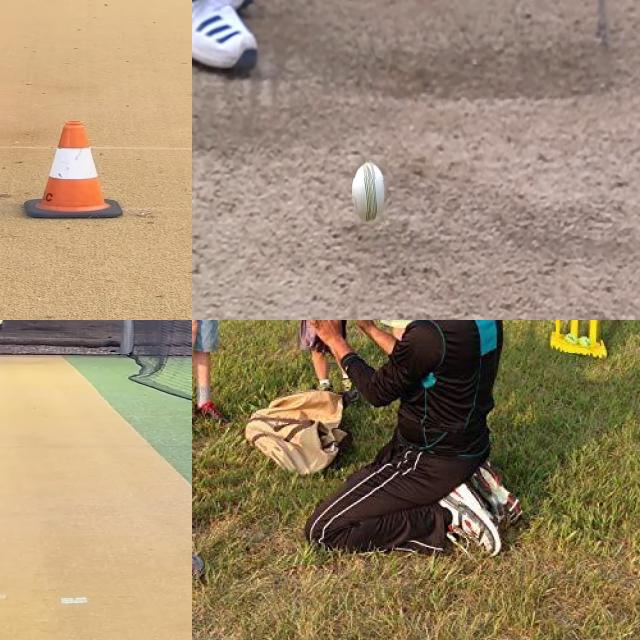Cricket ball: (352, 160, 388, 224)
Stumps: (556, 320, 603, 353)
